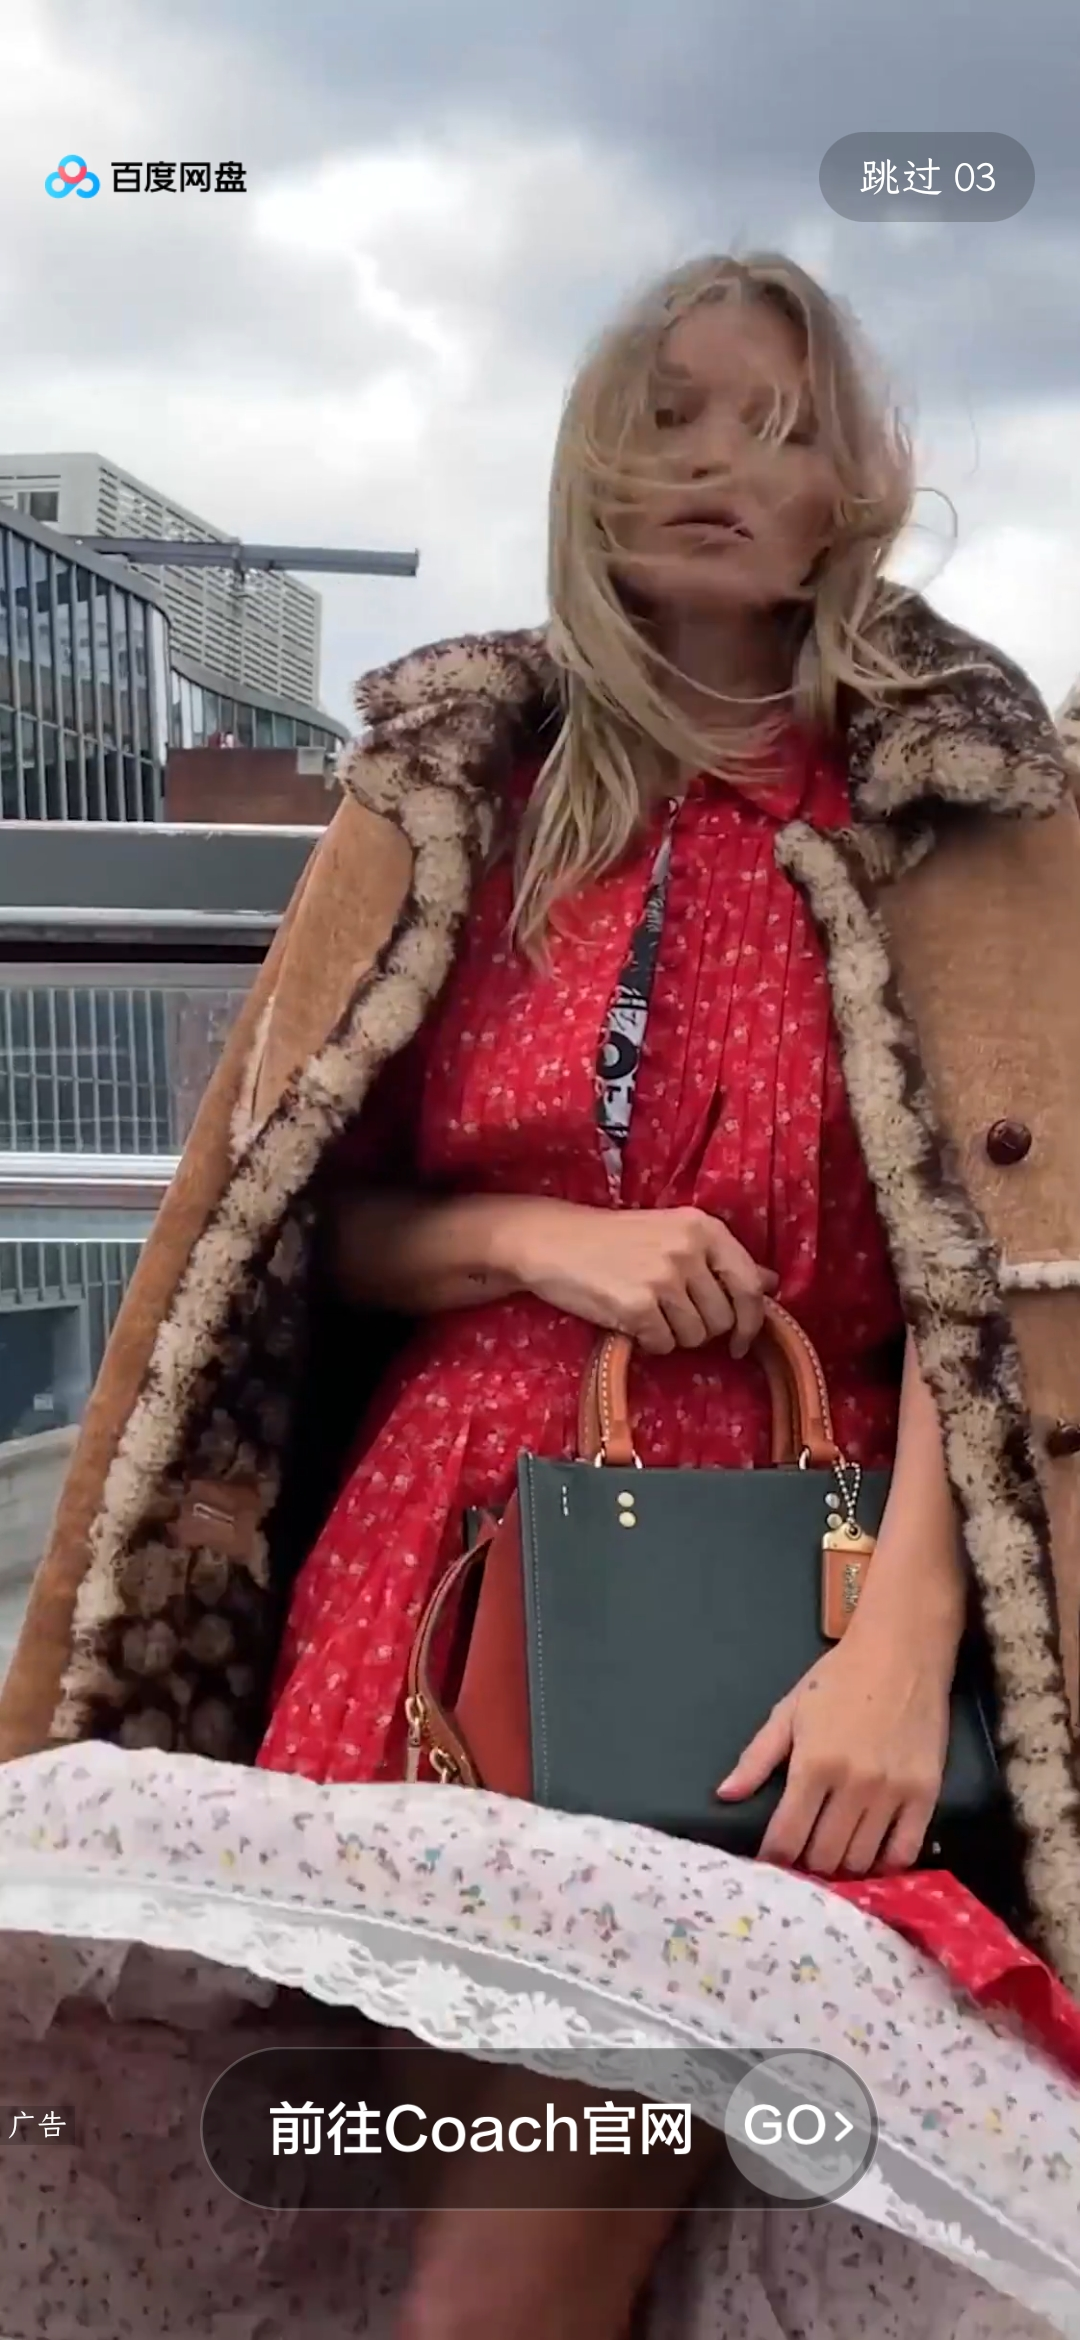skip: (840, 128, 1016, 213)
